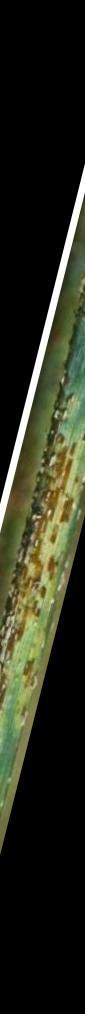Wheat: (5, 395, 85, 650)
